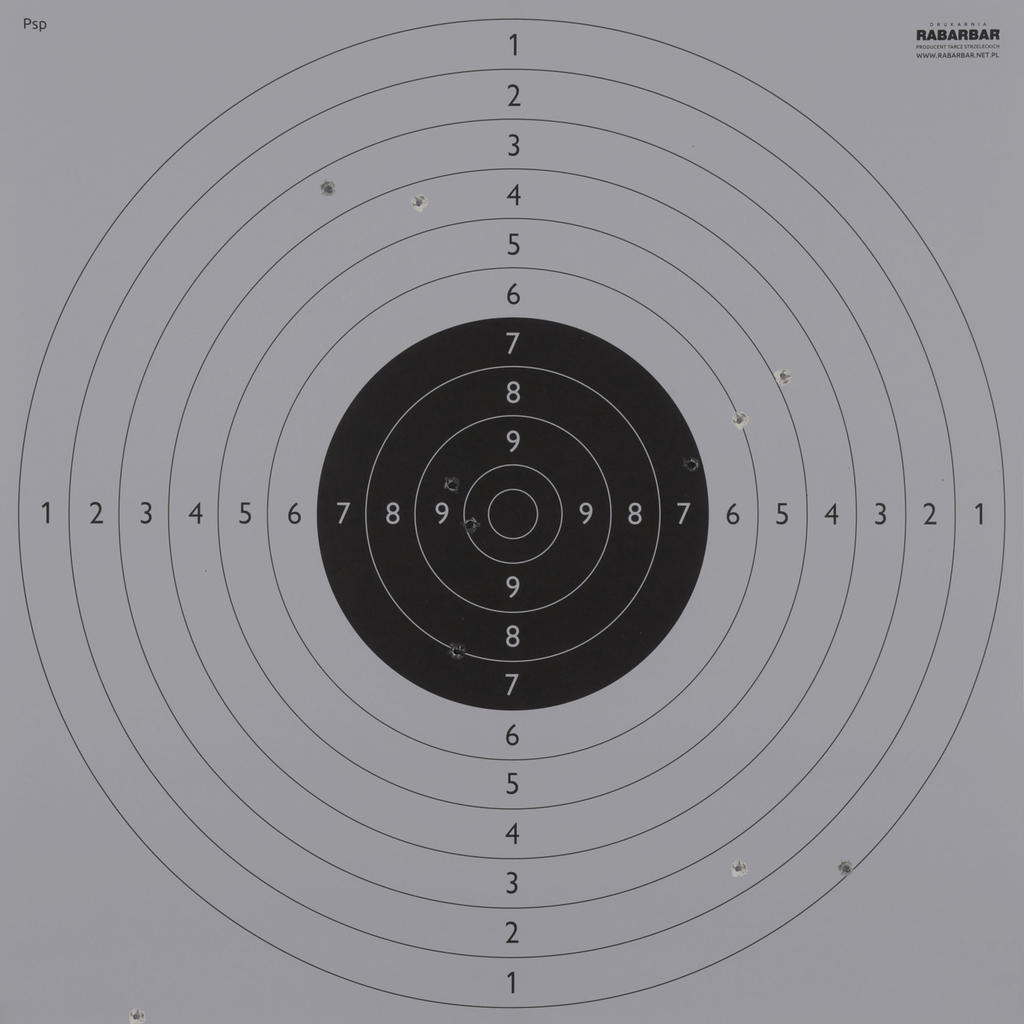0 punktow: (127, 1007, 146, 1024)
1 punkt: (837, 860, 856, 878)
10 punktow: (461, 515, 479, 534)
2 punkty: (729, 859, 748, 877)
3 punkty: (319, 180, 338, 198)
4 punkty: (410, 193, 428, 212)
5 punktow: (774, 367, 792, 386)
6 punktow: (730, 411, 749, 429)
7 punktow: (682, 455, 701, 474)
8 punktow: (447, 642, 466, 661)
9 punktow: (443, 476, 461, 494)
